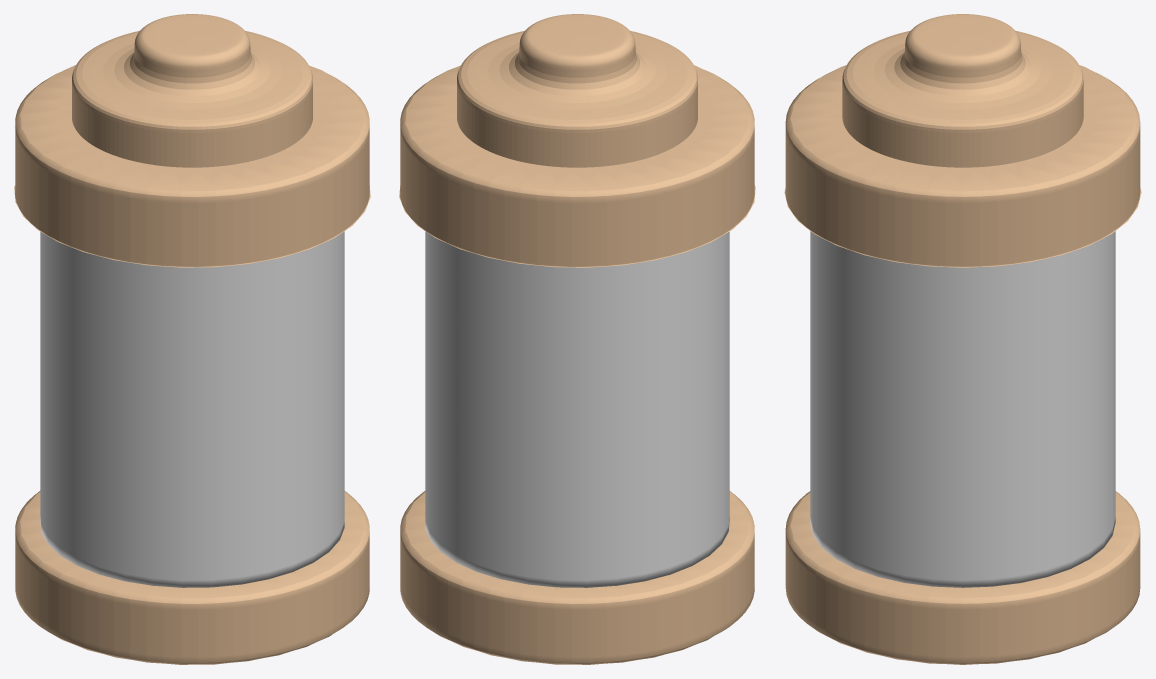
3 views of the same model, side by side, from view 1: azimuth 30°, elevation 25°; view 2: azimuth 150°, elevation 25°; view 3: azimuth 270°, elevation 25° (orthographic).
Visible parts, largest first — view 1: Cylinder.001, Cylinder, Cylinder.003; view 2: Cylinder.001, Cylinder, Cylinder.003; view 3: Cylinder.001, Cylinder, Cylinder.003.
Part boxes in pixels (<box>): Cylinder.001: <box>40,231,344,587</box>; Cylinder: <box>14,65,370,664</box>; Cylinder.003: <box>72,14,312,167</box>; Cylinder.001: <box>425,231,729,587</box>; Cylinder: <box>399,65,755,664</box>; Cylinder.003: <box>457,14,697,167</box>; Cylinder.001: <box>810,231,1115,587</box>; Cylinder: <box>784,65,1141,664</box>; Cylinder.003: <box>842,14,1083,167</box>.
Bounding box in the file's own units: 1.13 × 1.95 × 1.13.
